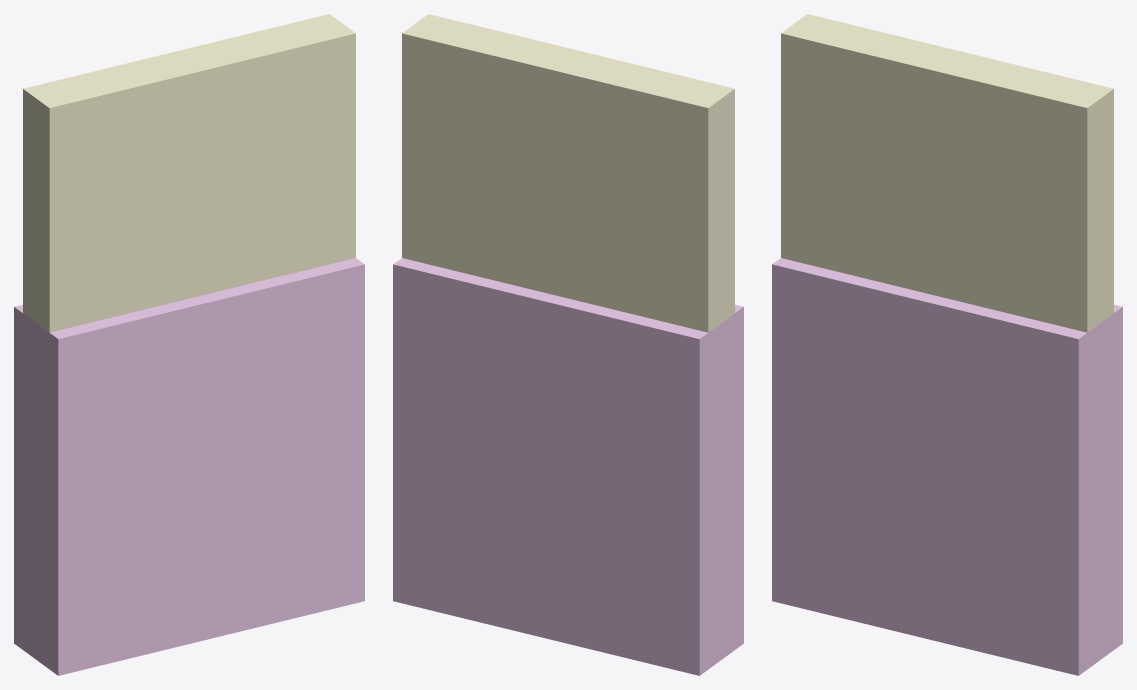
Rendered from Wall_B.glb.
3 views of the same model, side by side, from view 1: azimuth 30°, elevation 25°; view 2: azimuth 150°, elevation 25°; view 3: azimuth 330°, elevation 25° (orthographic).
Visible parts, largest first — view 1: Wall B; view 2: Wall B; view 3: Wall B.
Part boxes in pixels (x1,y1,x2,y2): Wall B: [14, 14, 364, 675]; Wall B: [393, 14, 743, 675]; Wall B: [772, 14, 1122, 675].
Bounding box in the file's own units: 2 × 3.5 × 0.5.
